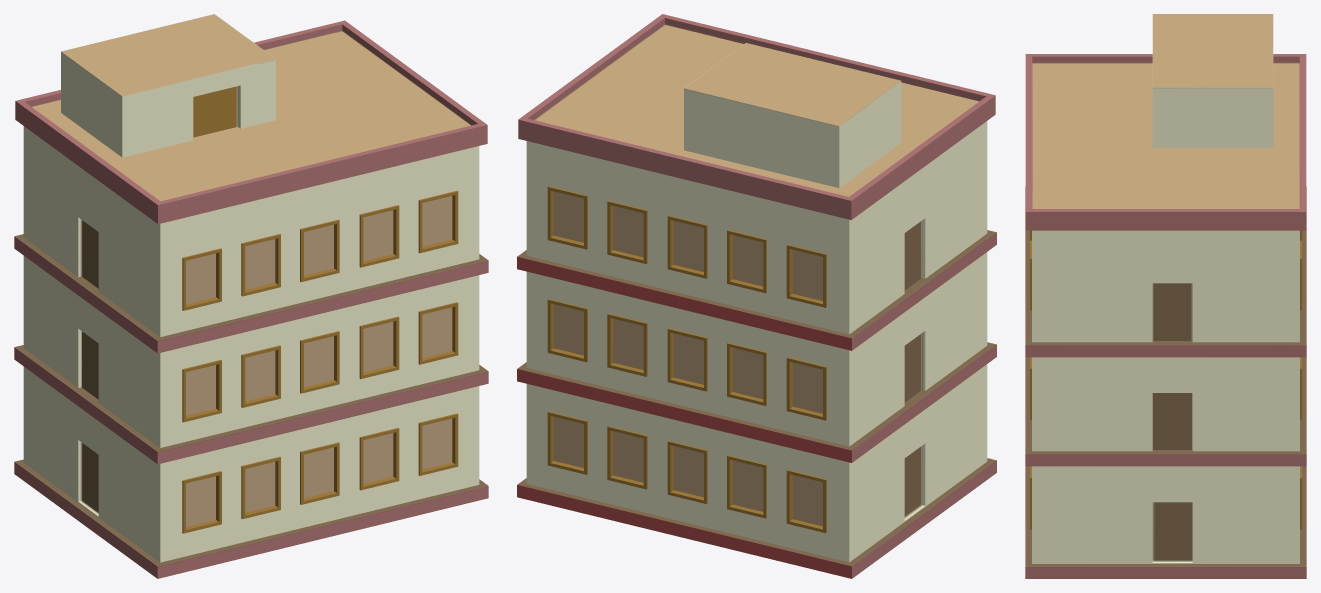
Rendered from Huis_01.fbx.
3 views of the same model, side by side, from view 1: azimuth 30°, elevation 25°; view 2: azimuth 150°, elevation 25°; view 3: azimuth 270°, elevation 25° (orthographic). The views are drawn at different scales.
Parts seen in each view (by area): view 1: Huis_01, Top_01, Mid_02, Mid_01, Bot_01, Raam_09, Raam_014, Raam_04, Raam_015, Raam_05, Raam_010, Raam_07 (+8 smaller); view 2: Huis_01, Top_01, Mid_01, Mid_02, Bot_01, Raam_024, Raam_029, Raam_019, Raam_020, Raam_021, Raam_023, Raam_016 (+8 smaller); view 3: Huis_01, Top_01, Mid_02, Mid_01, Bot_01.
Boxes of the visible parts, left/top/right/bottom form: Huis_01: left=23, top=14, right=479, bottom=562; Top_01: left=15, top=20, right=487, bottom=224; Mid_02: left=14, top=234, right=488, bottom=353; Mid_01: left=14, top=345, right=488, bottom=464; Bot_01: left=14, top=459, right=488, bottom=578; Raam_09: left=359, top=316, right=399, bottom=379; Raam_014: left=359, top=428, right=399, bottom=490; Raam_04: left=359, top=205, right=399, bottom=267; Raam_015: left=418, top=413, right=458, bottom=475; Raam_05: left=418, top=190, right=458, bottom=253; Raam_010: left=418, top=302, right=458, bottom=364; Raam_07: left=241, top=345, right=280, bottom=407; Huis_01: left=526, top=43, right=987, bottom=562; Top_01: left=518, top=14, right=995, bottom=219; Mid_01: left=517, top=342, right=996, bottom=462; Mid_02: left=517, top=230, right=996, bottom=350; Bot_01: left=517, top=458, right=996, bottom=578; Raam_024: left=607, top=313, right=647, bottom=376; Raam_029: left=607, top=426, right=647, bottom=489; Raam_019: left=607, top=200, right=647, bottom=263; Raam_020: left=547, top=186, right=587, bottom=249; Raam_021: left=786, top=357, right=826, bottom=420; Raam_023: left=667, top=328, right=707, bottom=391; Raam_016: left=786, top=244, right=826, bottom=307; Huis_01: left=1032, top=14, right=1299, bottom=563; Top_01: left=1025, top=54, right=1306, bottom=230; Mid_02: left=1025, top=187, right=1306, bottom=357; Mid_01: left=1025, top=357, right=1306, bottom=466; Bot_01: left=1025, top=466, right=1306, bottom=578.
Size of the model in its own units: 0.028 by 0.0346 by 0.021.
